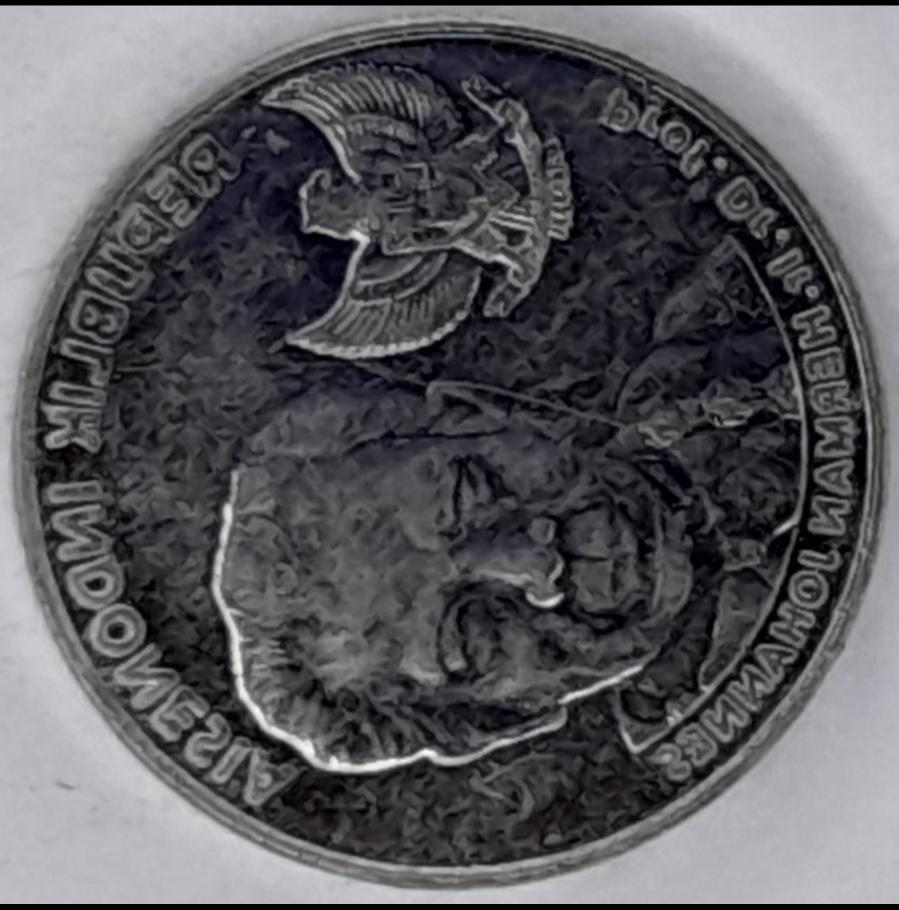coin_100_e2016: (10, 15, 888, 889)
